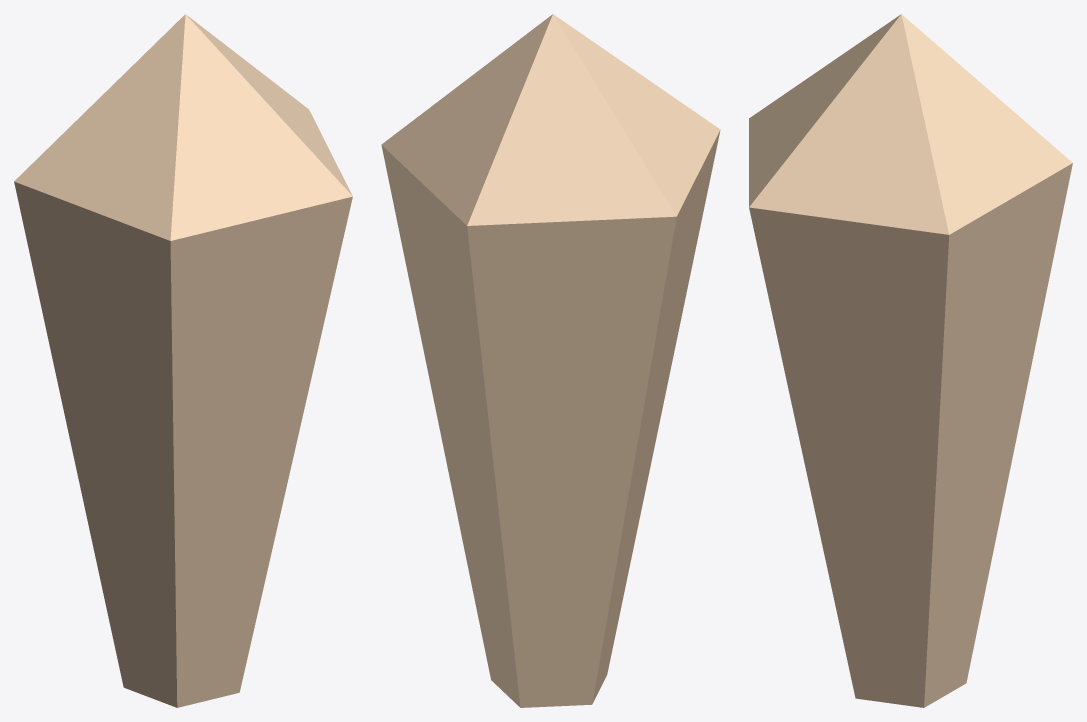
File: Jem_40.fbx
3 views of the same model, side by side, from view 1: azimuth 30°, elevation 25°; view 2: azimuth 150°, elevation 25°; view 3: azimuth 270°, elevation 25° (orthographic).
Visible parts, largest first — view 1: Jem_40; view 2: Jem_40; view 3: Jem_40.
Boxes of the visible parts, x1,y1,x2,y2 form: Jem_40: (14, 14, 352, 707); Jem_40: (381, 14, 720, 707); Jem_40: (749, 14, 1072, 707).
Size of the model in its own units: 34.07 by 73.87 by 32.41.
